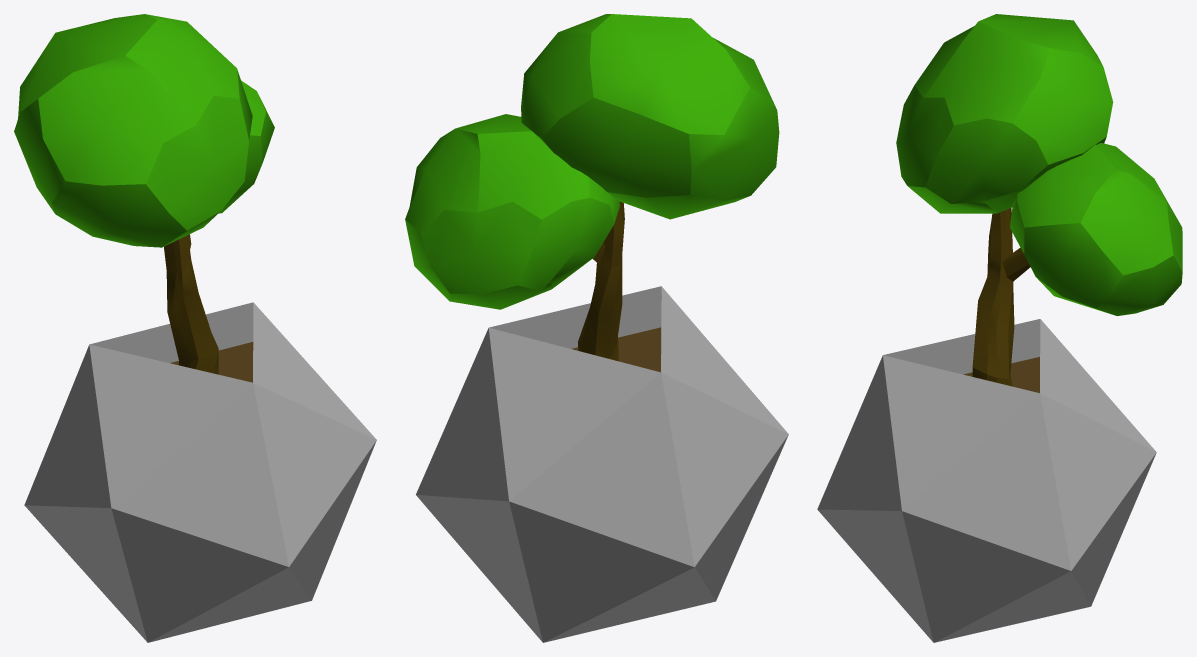
Rendered from Planter1.fbx.
The picture shows the model from 3 angles, left to right: view 1: azimuth 30°, elevation 25°; view 2: azimuth 150°, elevation 25°; view 3: azimuth 270°, elevation 25°; orthographic projection. The views are drawn at different scales.
Visible parts, largest first — view 1: Plant5; view 2: Plant5; view 3: Plant5.
Part boxes in pixels (x1,y1,x2,y2): Plant5: (14,14,376,642); Plant5: (405,14,788,642); Plant5: (817,14,1182,642).
Size of the model in its own units: 1.11 by 2.05 by 1.23.
